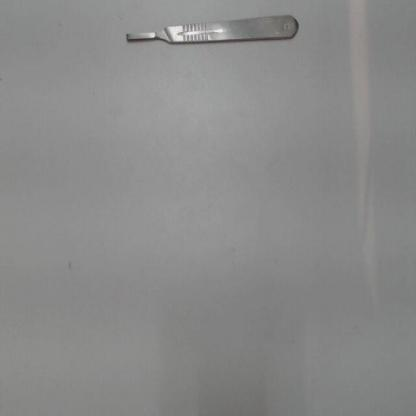No.4 BP Handle: (113, 12, 305, 50)
